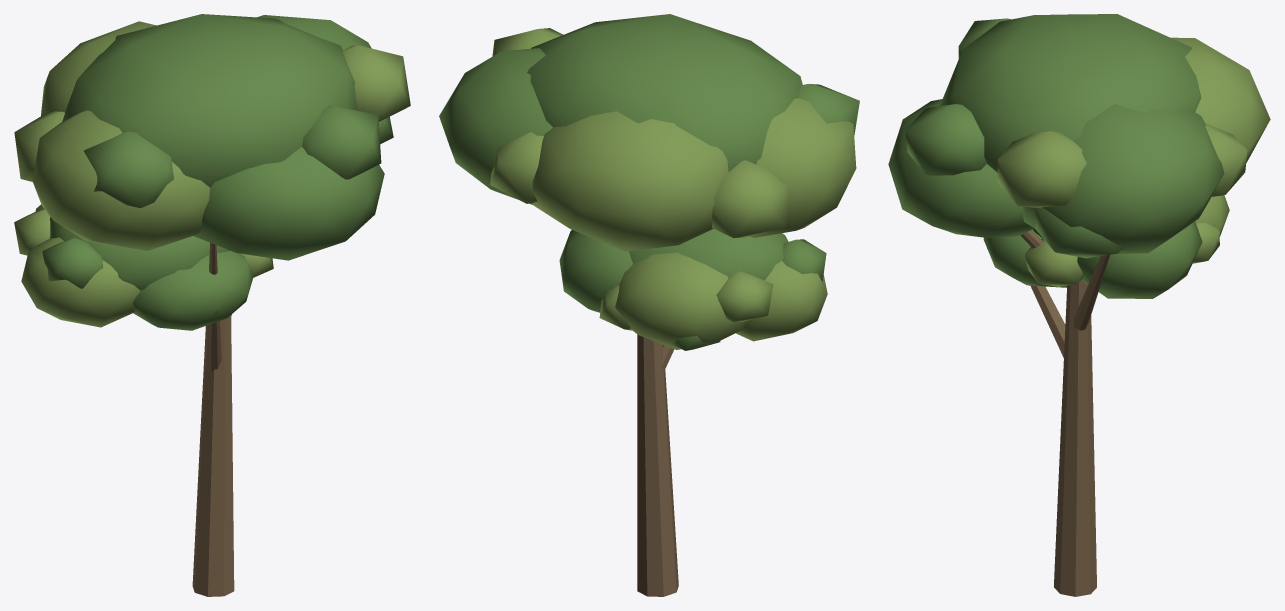
Rendered from broadleaf-b.glb.
The picture shows the model from 3 angles, left to right: view 1: azimuth 30°, elevation 25°; view 2: azimuth 150°, elevation 25°; view 3: azimuth 270°, elevation 25°; orthographic projection.
Visible parts, largest first — view 1: broadleaf-b; view 2: broadleaf-b; view 3: broadleaf-b.
Boxes of the visible parts, bbox=[...] form: broadleaf-b: bbox=[14, 14, 410, 596]; broadleaf-b: bbox=[439, 14, 859, 596]; broadleaf-b: bbox=[888, 14, 1270, 596].
Bounding box in the file's own units: 4.22 × 6.22 × 3.88.
